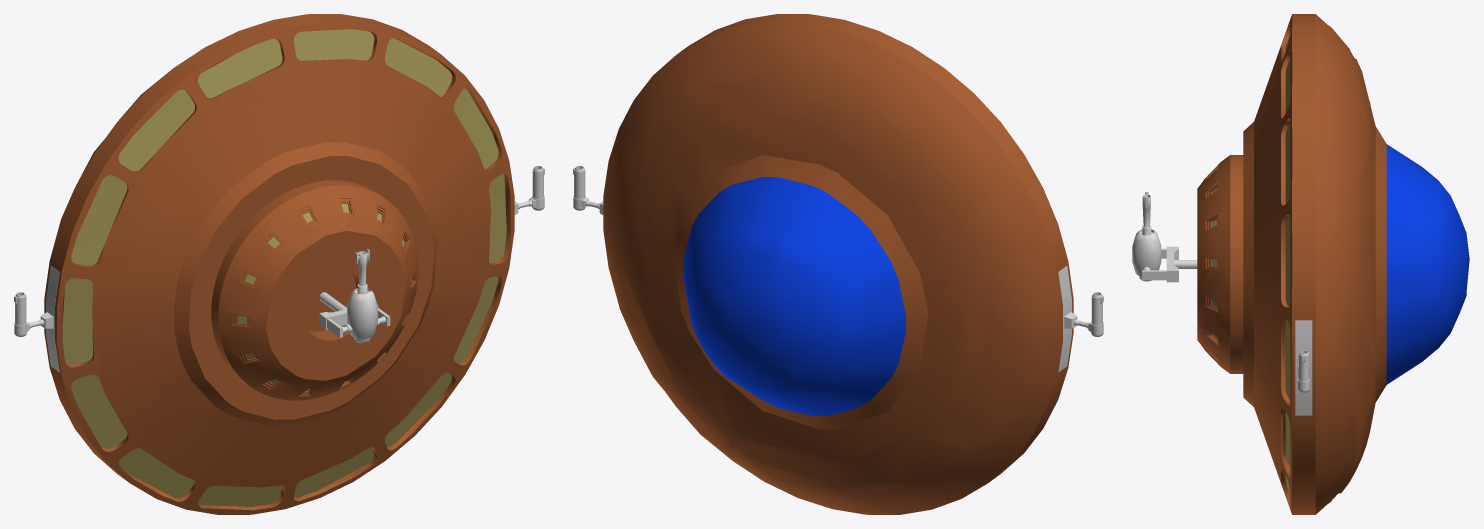
File: UFO_minor_vertices.fbx
3 renders of one model, left to right at view 1: azimuth 30°, elevation 25°; view 2: azimuth 150°, elevation 25°; view 3: azimuth 270°, elevation 25°, orthographic. The views are drawn at different scales.
Visible parts, largest first — view 1: Ship, BottomGun, RightGun_Holder, BottomGun_Holder, RightGun, LeftGun; view 2: Ship, RightGun_Holder, RightGun, LeftGun; view 3: Ship, BottomGun, LeftGun_Holder, BottomGun_Holder, LeftGun.
Boxes of the visible parts, bbox=[...] form: Ship: bbox=[44, 14, 514, 514]; BottomGun: bbox=[342, 249, 386, 343]; RightGun_Holder: bbox=[40, 266, 59, 372]; BottomGun_Holder: bbox=[319, 292, 390, 337]; RightGun: bbox=[14, 292, 43, 336]; LeftGun: bbox=[518, 166, 544, 210]; Ship: bbox=[603, 14, 1073, 514]; RightGun_Holder: bbox=[1058, 266, 1077, 372]; RightGun: bbox=[1074, 292, 1103, 336]; LeftGun: bbox=[573, 166, 599, 210]; Ship: bbox=[1197, 14, 1469, 514]; BottomGun: bbox=[1132, 192, 1161, 281]; LeftGun_Holder: bbox=[1295, 320, 1312, 415]; BottomGun_Holder: bbox=[1142, 246, 1197, 282]; LeftGun: bbox=[1297, 350, 1309, 392].
Bounding box in the file's own units: 1218 × 1057 × 711.
